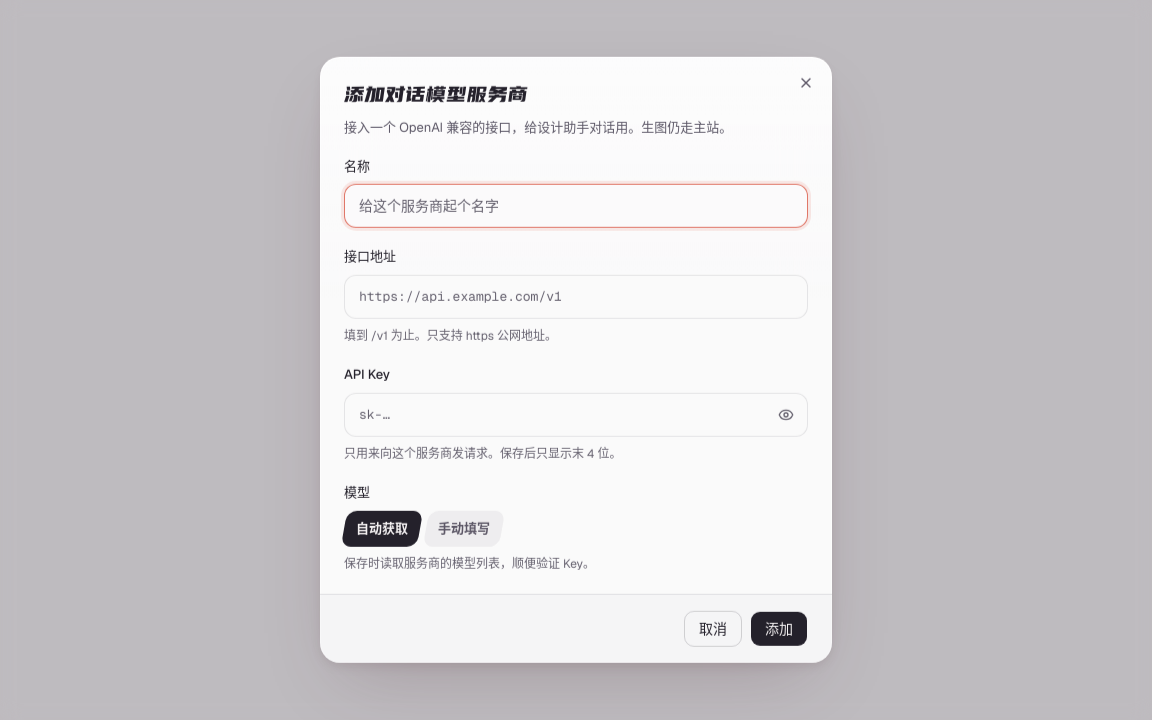
ChatProviderDialog › checks the address before sending anything, and keeps the key masked
Type "我的服务商" into the field labelled "名称" at point(576, 206), box x1=344 y1=184 x2=808 y2=228
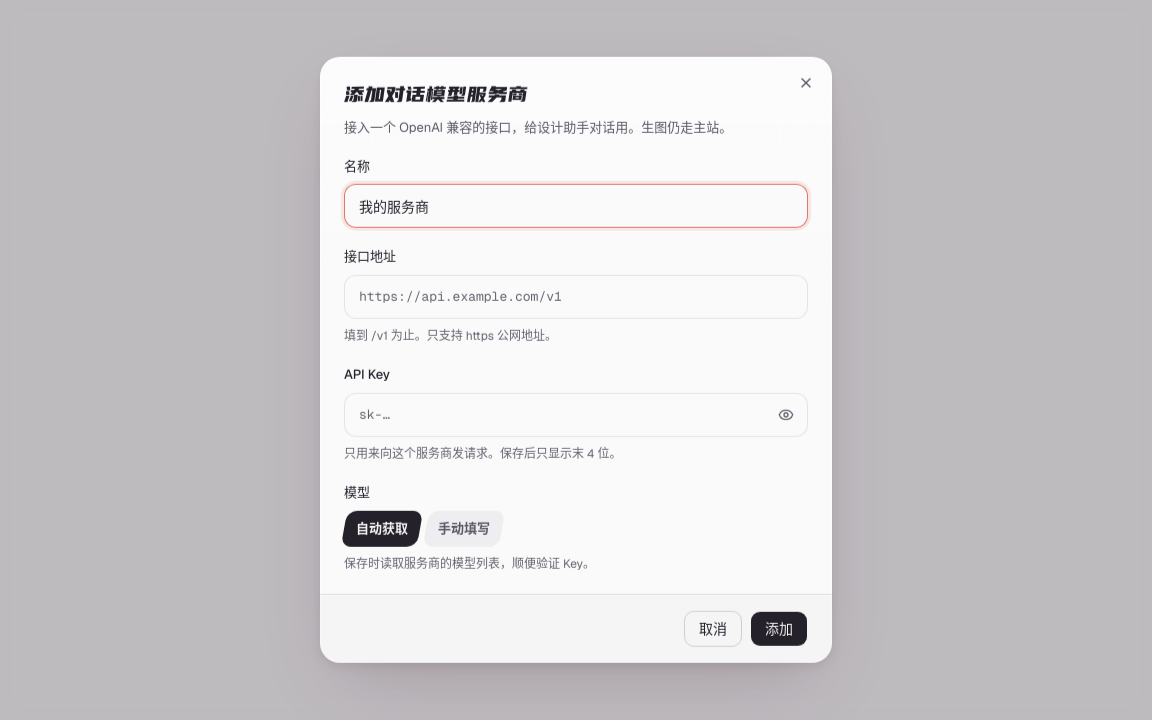
Type "http://api.example.com/v1" into the field labelled "接口地址" at point(576, 297), box x1=344 y1=275 x2=808 y2=319
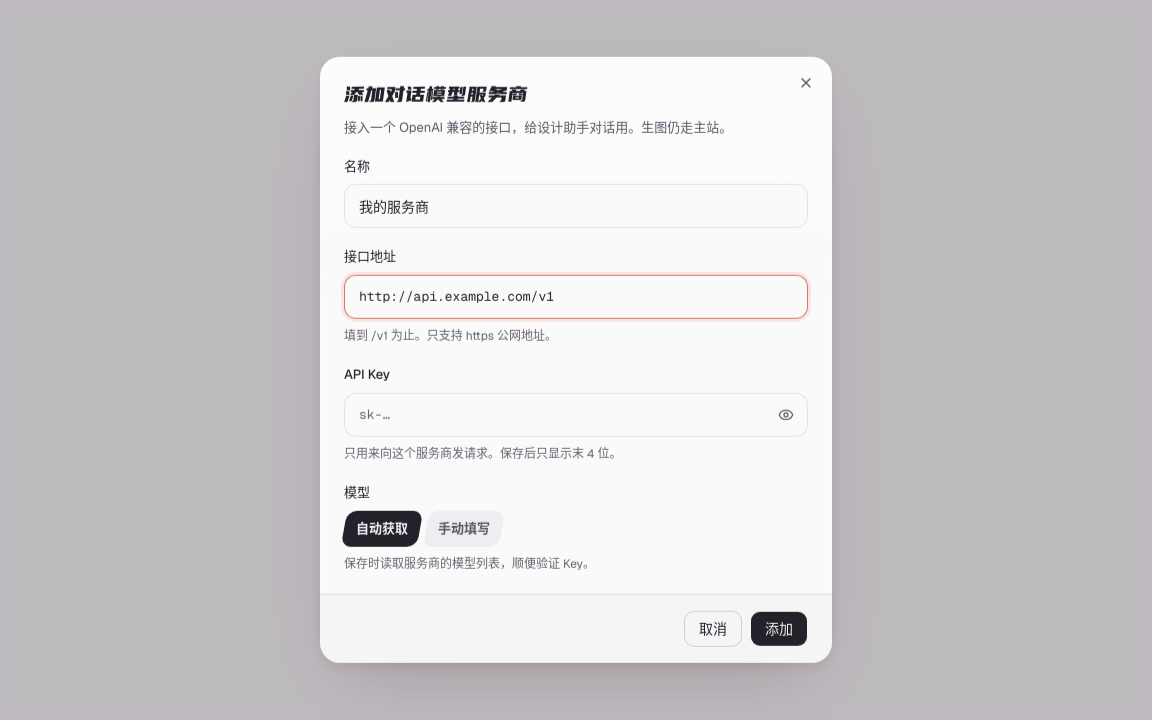
Type "sk-test-secret-0042" into the password field labelled "API Key" at point(576, 415), box x1=344 y1=393 x2=808 y2=437
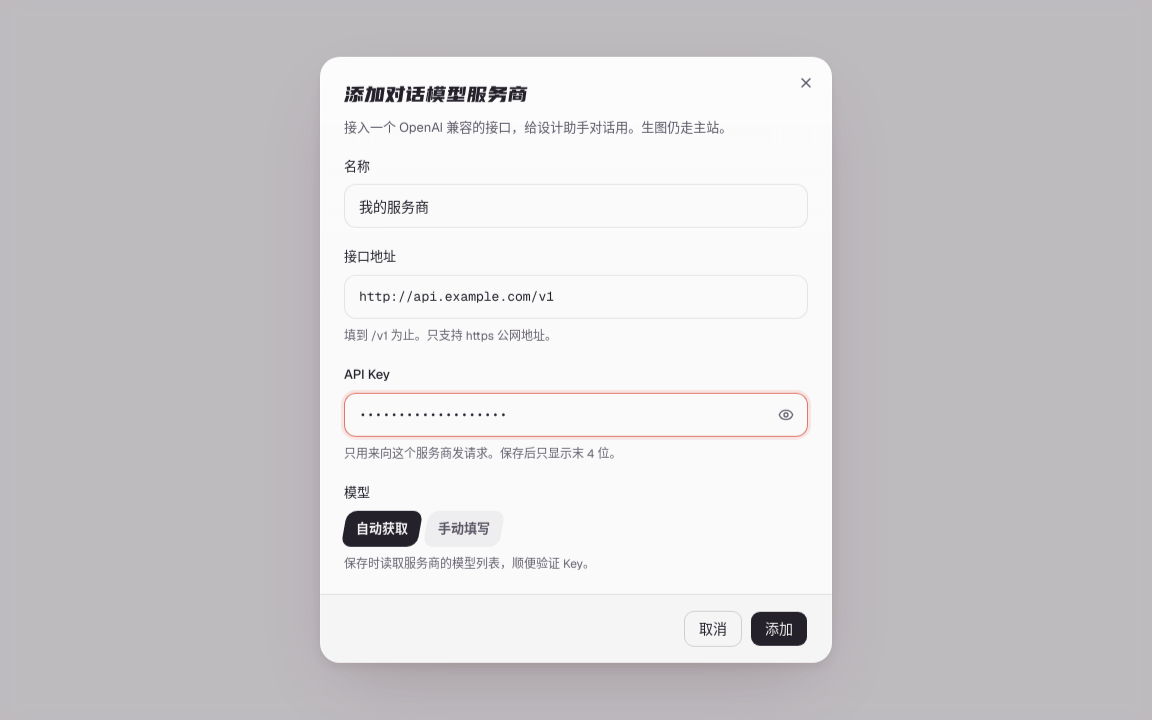
Click the button "添加" at point(779, 629), box x1=750 y1=611 x2=808 y2=647
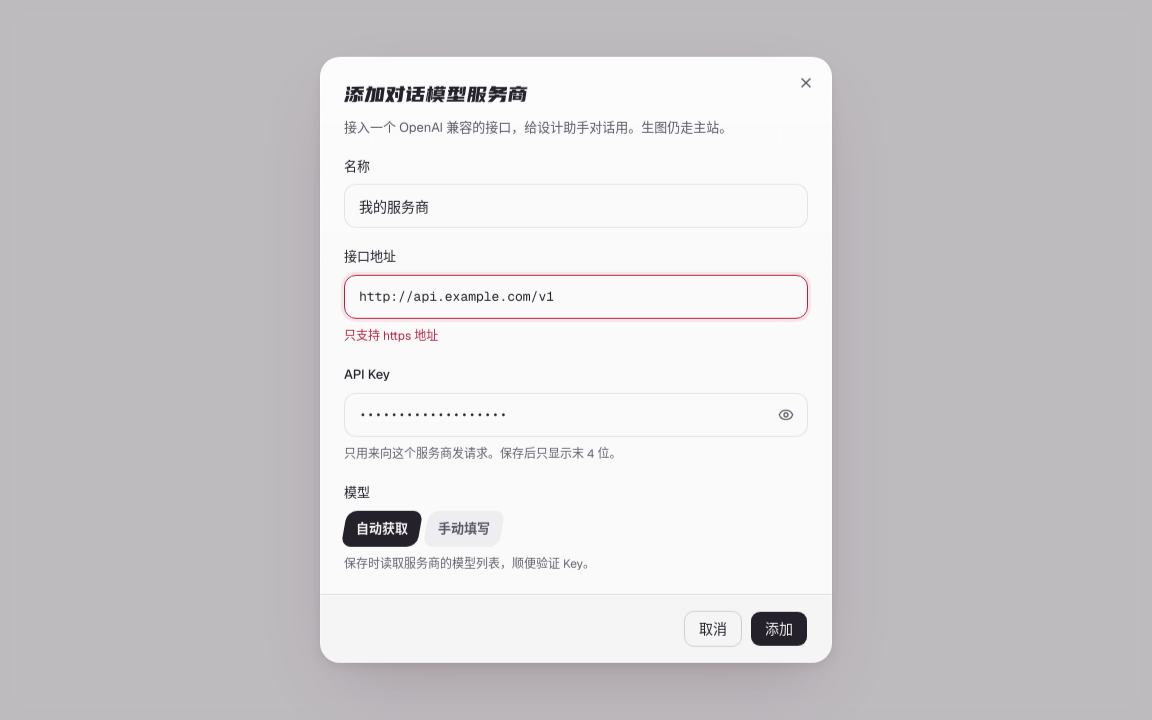
Now the text "只支持 https 地址" is shown, box x1=344 y1=328 x2=438 y2=344
